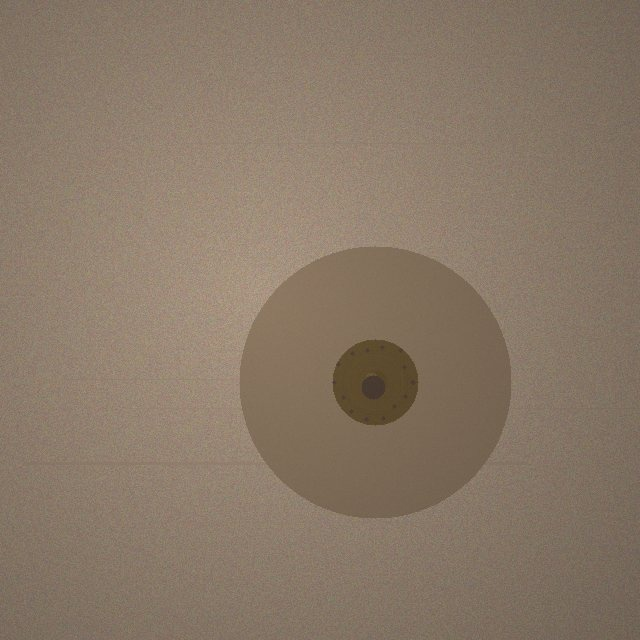cold_weld: (239, 246, 511, 518)
